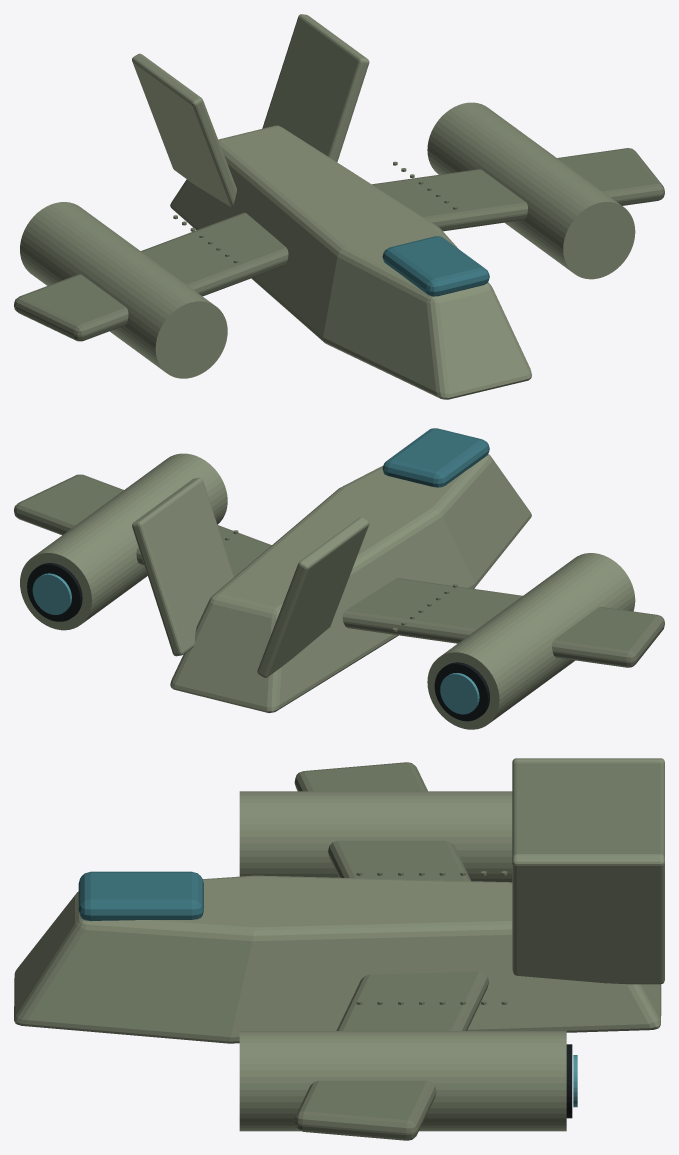
The model's file is aircraft.glb.
3 renders of one model, top to bottom at view 1: azimuth 30°, elevation 25°; view 2: azimuth 150°, elevation 25°; view 3: azimuth 270°, elevation 25°, orthographic. The views are drawn at different scales.
Visible parts, largest first — view 1: aircraft; view 2: aircraft; view 3: aircraft.
Part boxes in pixels (<box>): aircraft: <box>14,14,664,399</box>; aircraft: <box>14,428,664,729</box>; aircraft: <box>14,758,664,1140</box>.
Bounding box in the file's own units: 7.92 × 2.02 × 5.97.
